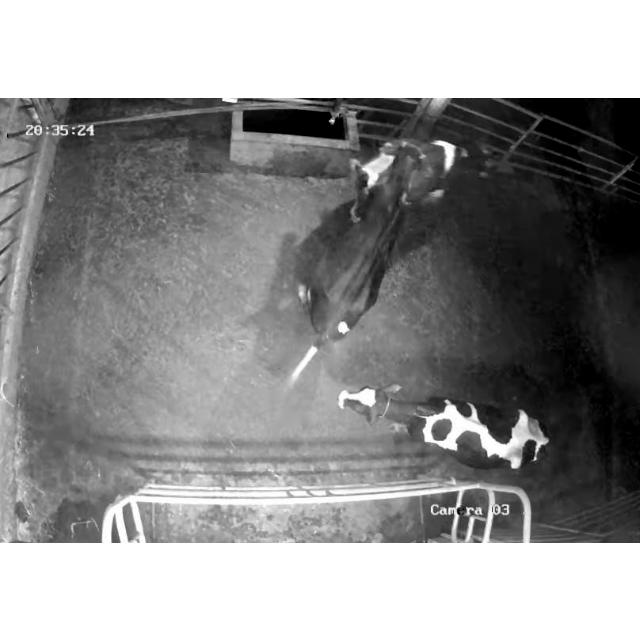ride: (292, 141, 441, 379)
